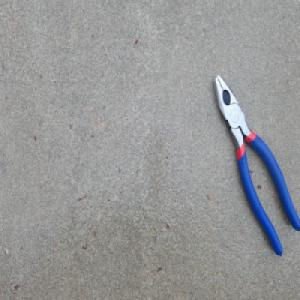Pliers: (211, 77, 298, 258)
